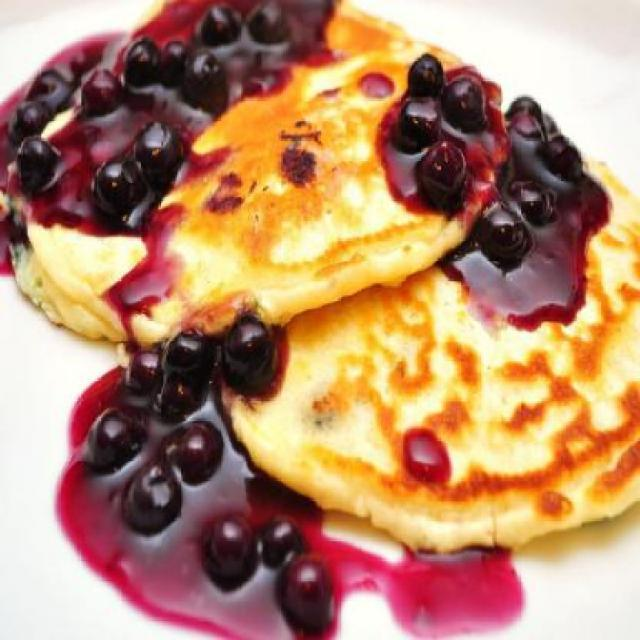Pancake: (217, 111, 640, 547), (4, 0, 507, 345)
